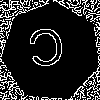C: (26, 26, 68, 77)
